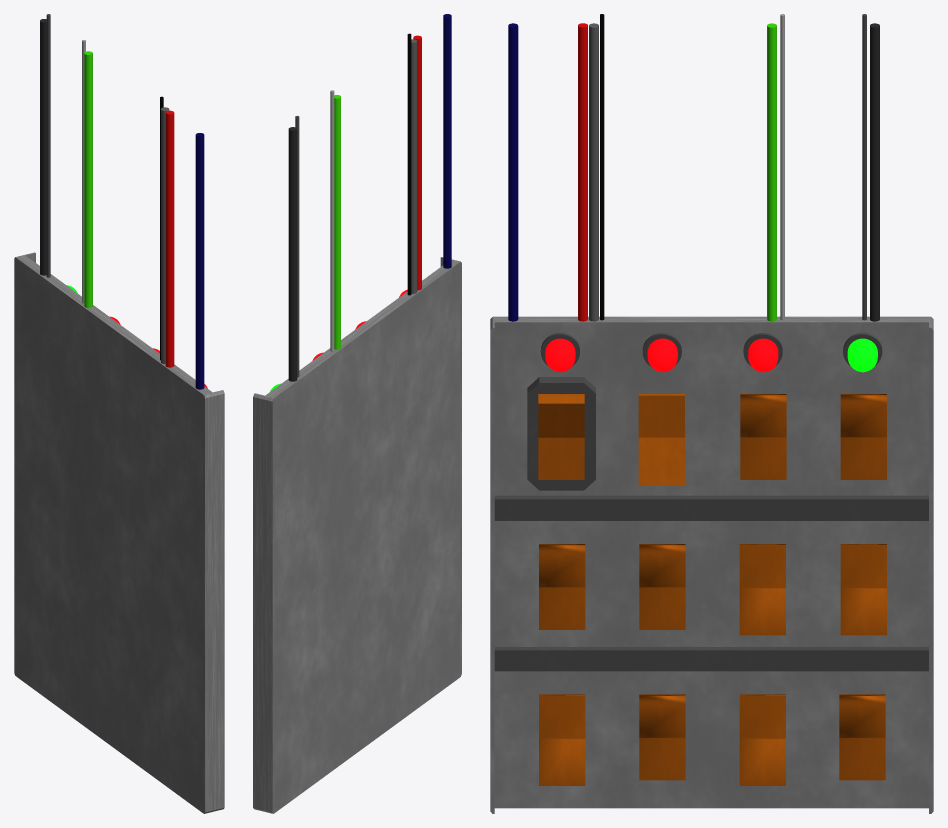
Rendered from Final_Filler_Switch panel 1.glb.
The picture shows the model from 3 angles, left to right: view 1: azimuth 30°, elevation 25°; view 2: azimuth 150°, elevation 25°; view 3: azimuth 270°, elevation 25°; orthographic projection. The views are drawn at different scales.
Visible parts, largest first — view 1: Cube, Cylinder.008, Cylinder.014, Cylinder.012, Cylinder.013, Cylinder.015, Cylinder.009, Cylinder.011; view 2: Cube, Cylinder.013, Cylinder.014, Cylinder.012, Cylinder.009, Cylinder.010, Cylinder.011, Cylinder.008, Cylinder.015; view 3: Cube, Cube.014, Cube.010, Cube.012, Cube.003, Cube.006, Cube.007, Cube.011, Cube.013, Cube.002, Cube.004, Cube.005 (+15 smaller).
Boxes of the visible parts, bbox=[...] form: Cube: bbox=[14, 252, 224, 813]; Cylinder.008: bbox=[165, 110, 174, 367]; Cylinder.014: bbox=[195, 133, 204, 389]; Cylinder.012: bbox=[84, 51, 92, 307]; Cylinder.013: bbox=[40, 19, 46, 275]; Cylinder.015: bbox=[46, 14, 50, 277]; Cylinder.009: bbox=[161, 107, 169, 363]; Cylinder.011: bbox=[82, 40, 85, 303]; Cube: bbox=[253, 257, 461, 813]; Cylinder.013: bbox=[288, 127, 297, 381]; Cylinder.014: bbox=[443, 14, 451, 268]; Cylinder.012: bbox=[334, 95, 340, 349]; Cylinder.009: bbox=[411, 39, 417, 293]; Cylinder.010: bbox=[407, 33, 411, 295]; Cylinder.011: bbox=[330, 90, 334, 351]; Cylinder.008: bbox=[413, 35, 421, 290]; Cylinder.015: bbox=[295, 115, 299, 377]; Cube: bbox=[490, 316, 933, 813]; Cube.014: bbox=[494, 495, 928, 671]; Cube.010: bbox=[539, 694, 585, 785]; Cube.012: bbox=[739, 694, 785, 785]; Cube.003: bbox=[638, 394, 684, 485]; Cube.006: bbox=[840, 544, 886, 635]; Cube.007: bbox=[739, 544, 785, 635]; Cube.011: bbox=[639, 694, 685, 780]; Cube.013: bbox=[839, 694, 885, 780]; Cube.002: bbox=[538, 394, 584, 479]; Cube.004: bbox=[740, 394, 786, 479]; Cube.005: bbox=[840, 394, 886, 479].
Size of the model in its own units: 0.8327 by 15.65 by 7.95.
Materials: 17 (17 with a texture image).
